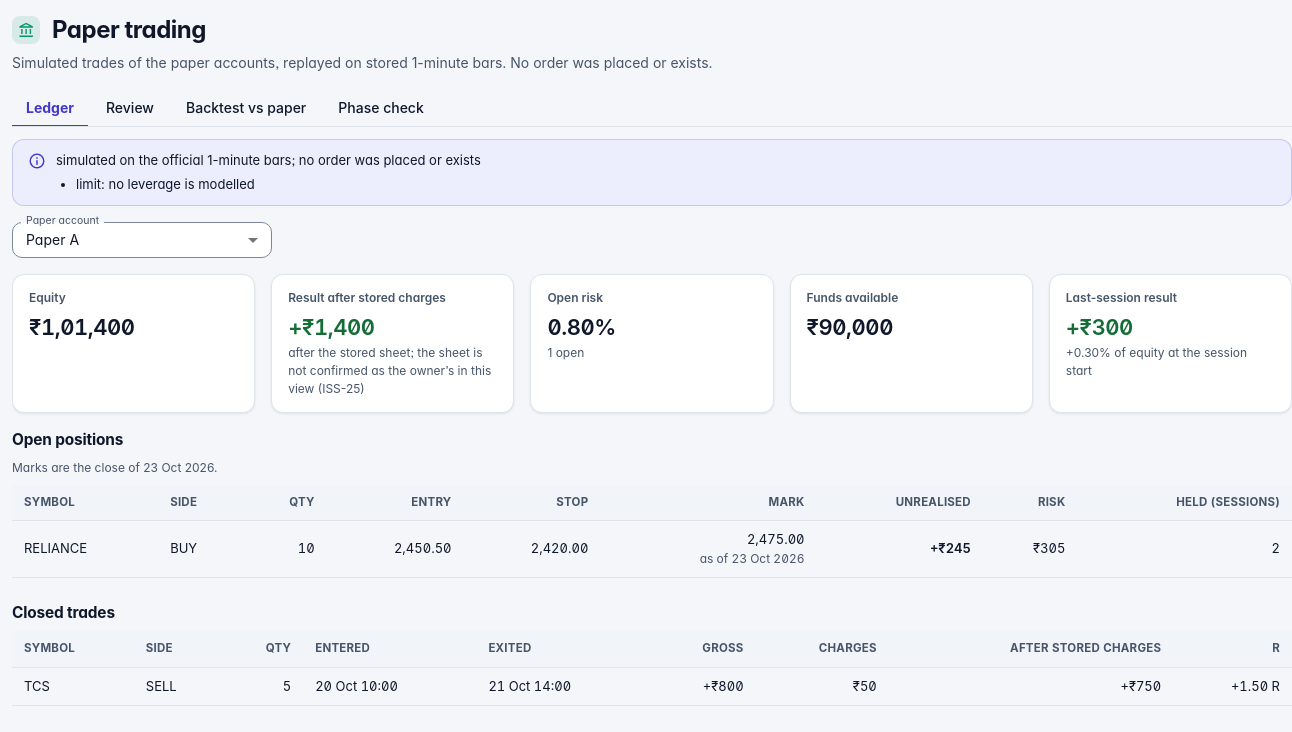
Test: Paper ledger tab › switches the data with the account picker
The image size is (1292, 732).
expect the column heading "RELIANCE" is shown: met, box [12,521,158,577]
Step 1. Click the dropdown named "Paper account" → (52, 240), box [26,231,79,248]
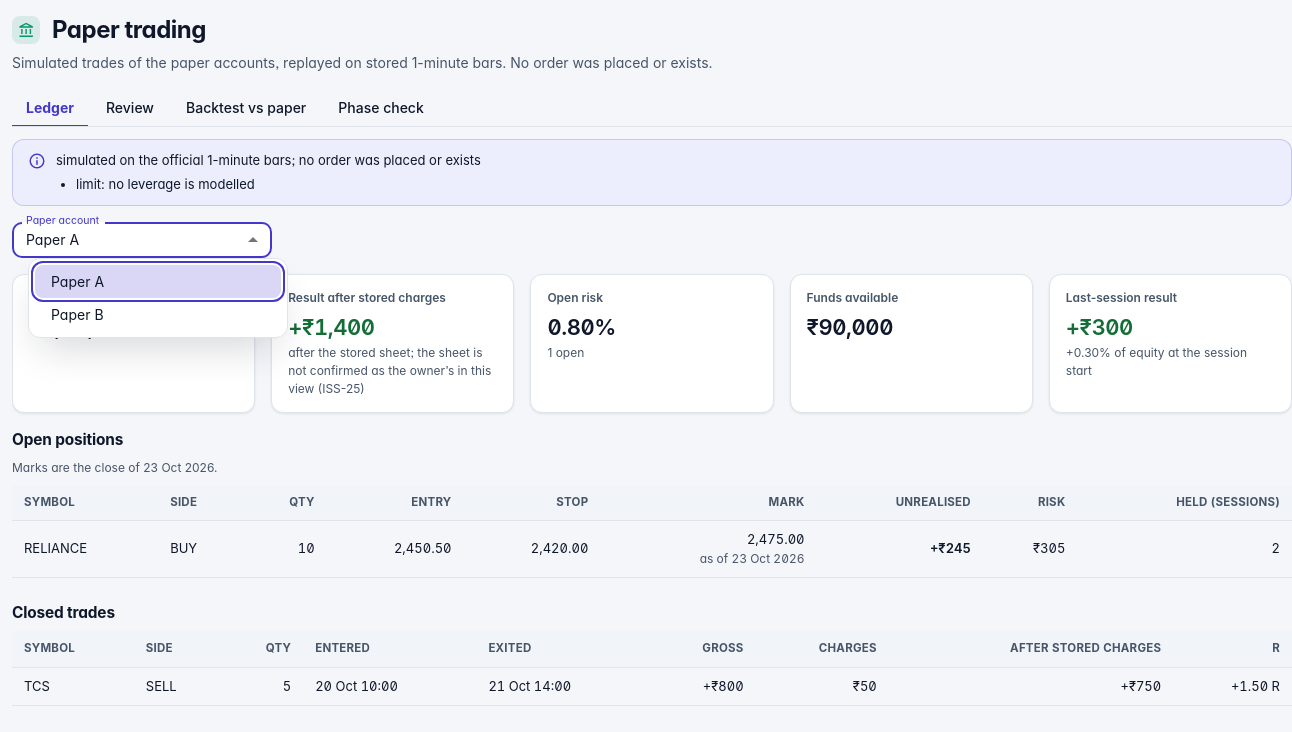
Step 2. Click the option "Paper B" → (77, 314), box [51,306,104,323]
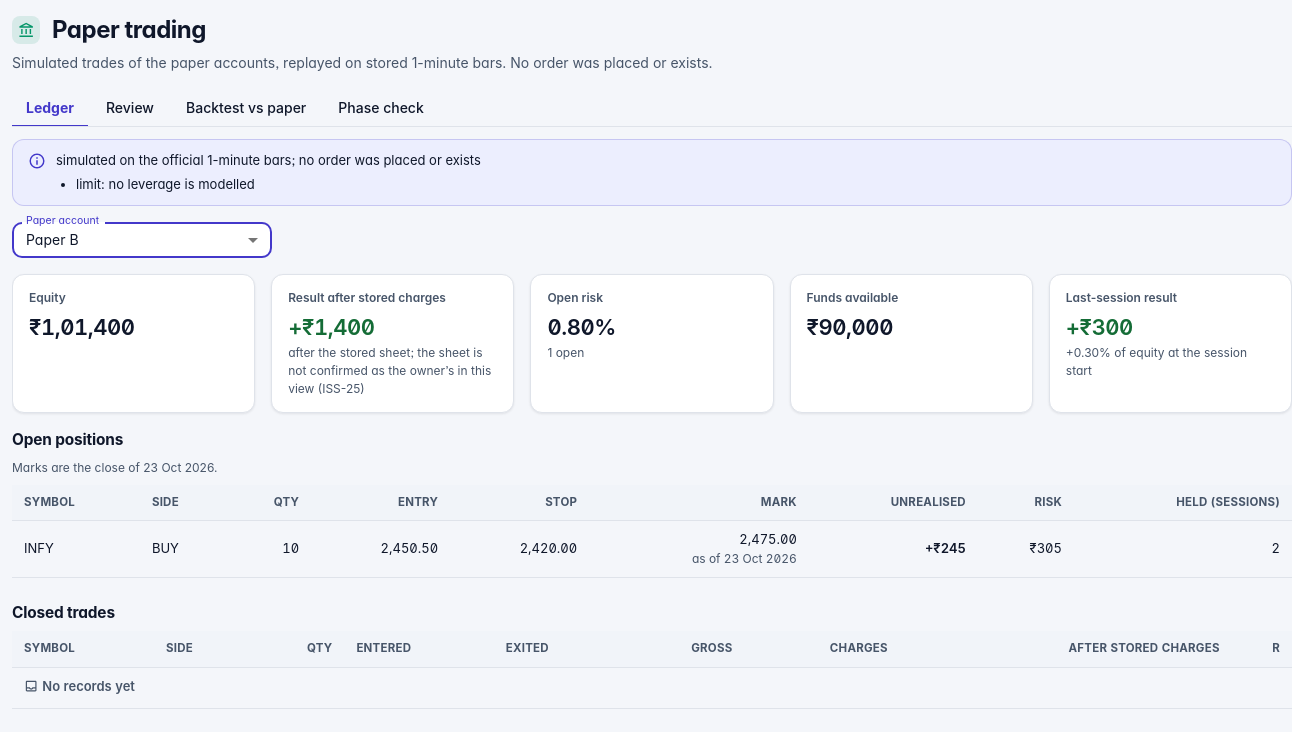
expect the column heading "INFY" is shown: met, box [12,521,140,577]
expect the column heading "RELIANCE" is gone: met
